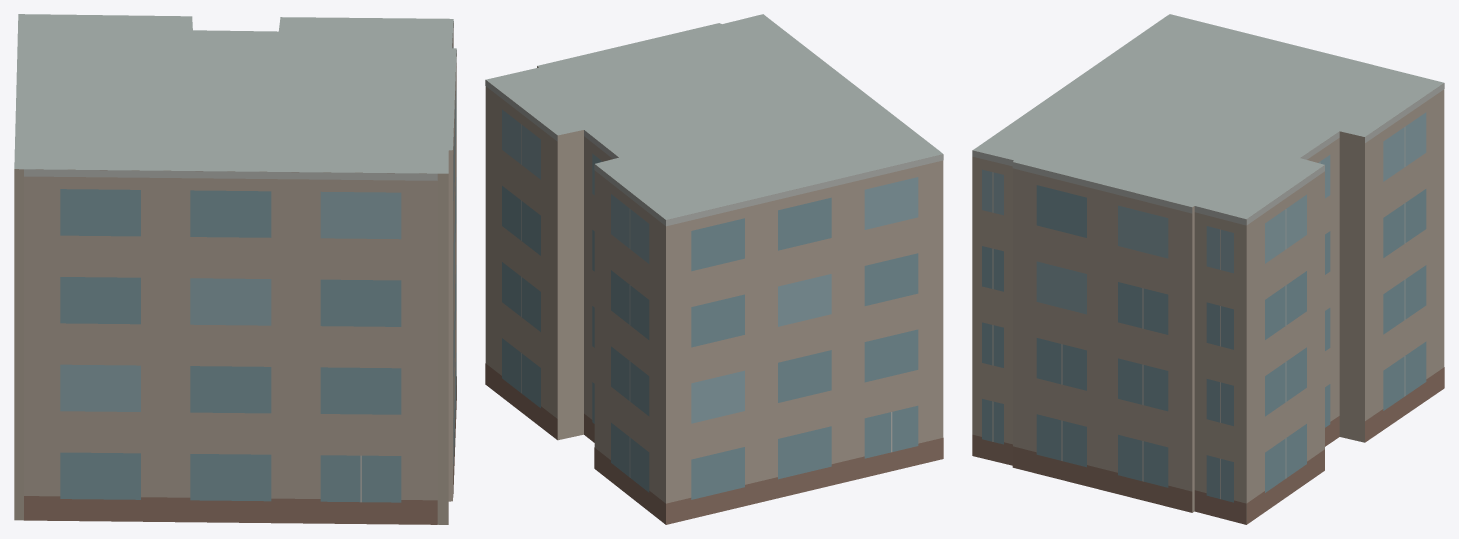
The model's file is survey-upis-32840138.glb.
3 views of the same model, side by side, from view 1: azimuth 30°, elevation 25°; view 2: azimuth 150°, elevation 25°; view 3: azimuth 270°, elevation 25° (orthographic). The views are drawn at different scales.
Parts seen in each view (by area): view 1: survey-upis-32840138.tmp; view 2: survey-upis-32840138.tmp; view 3: survey-upis-32840138.tmp.
Boxes of the visible parts, <box> form: survey-upis-32840138.tmp: <box>14,14,456,524</box>; survey-upis-32840138.tmp: <box>485,14,943,524</box>; survey-upis-32840138.tmp: <box>972,14,1444,524</box>.
Size of the model in its own units: 17.01 by 11.8 by 16.53.
